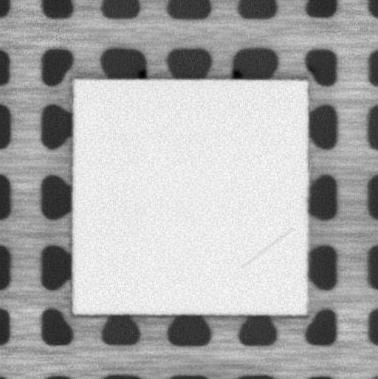DIE_CRACK: (242, 227, 297, 270)
